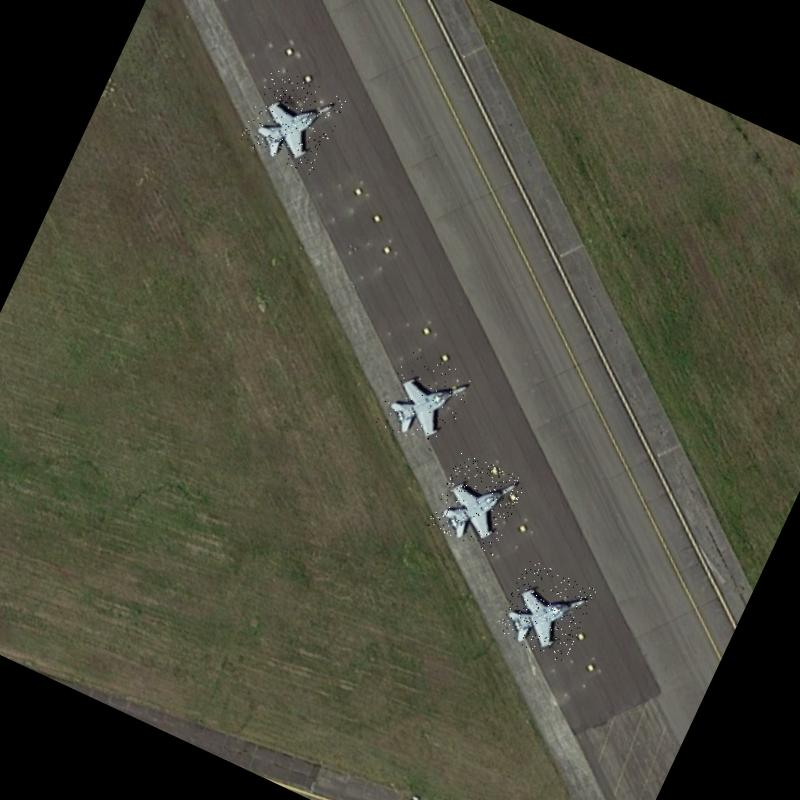A16: (239, 64, 348, 176), (493, 558, 597, 664), (374, 347, 476, 453), (426, 450, 527, 556)
